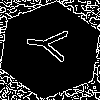Y: (25, 25, 78, 65)
